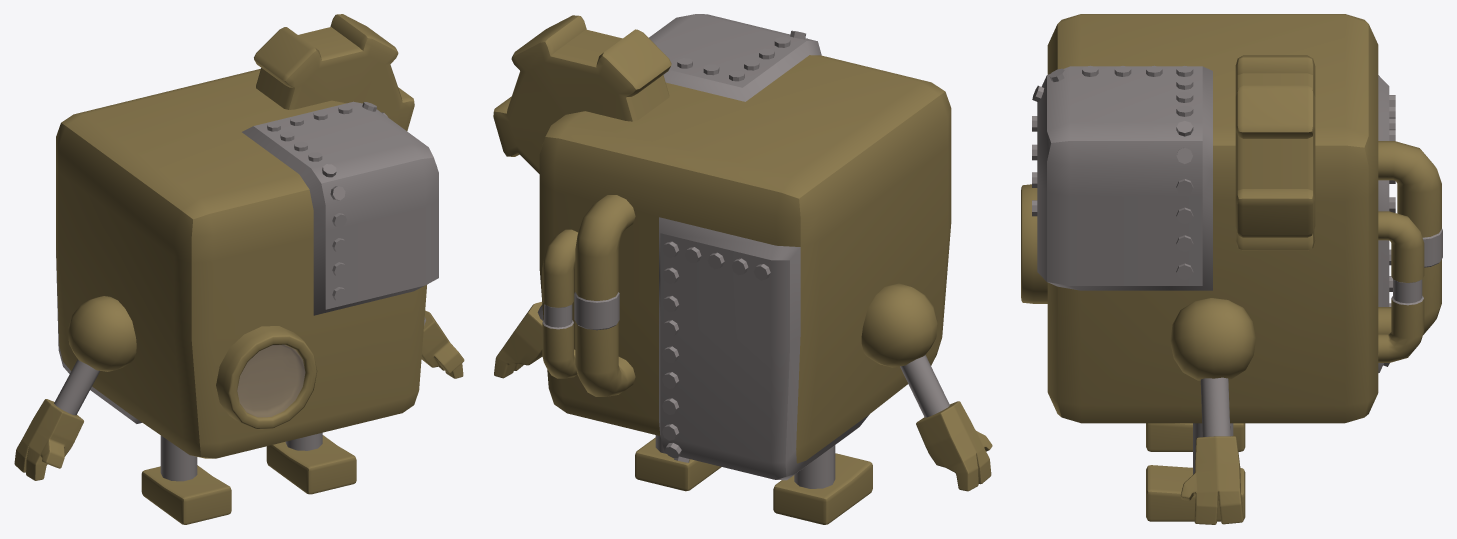
The model's file is GJ_RobotBoi.fbx.
3 views of the same model, side by side, from view 1: azimuth 30°, elevation 25°; view 2: azimuth 150°, elevation 25°; view 3: azimuth 270°, elevation 25° (orthographic). The views are drawn at different scales.
Visible parts, largest first — view 1: body, cog, eye, right_shoulder, glass, right_foot, left_foot, right_hand, left_hand, right_forearm, right_leg; view 2: body, cog, pipe, right_shoulder, pipe2, right_hand, right_foot, left_foot, left_hand, right_forearm, right_leg; view 3: body, cog, pipe, left_shoulder, pipe2, left_hand, left_foot, eye, left_forearm, right_foot.
Part boxes in pixels (<box>): body: <box>56,68,438,458</box>; cog: <box>254,14,414,130</box>; eye: <box>216,326,317,429</box>; right_shoulder: <box>68,296,136,371</box>; glass: <box>237,344,305,417</box>; right_foot: <box>141,465,231,524</box>; left_foot: <box>266,435,356,494</box>; right_hand: <box>14,399,83,480</box>; left_hand: <box>421,310,464,378</box>; right_forearm: <box>54,359,99,415</box>; right_leg: <box>160,435,197,481</box>; body: <box>539,14,951,480</box>; cog: <box>493,15,671,173</box>; pipe: <box>574,195,635,396</box>; right_shoulder: <box>861,283,937,367</box>; pipe2: <box>542,229,577,378</box>; right_hand: <box>916,401,992,491</box>; right_foot: <box>773,453,872,524</box>; left_foot: <box>635,437,721,491</box>; left_hand: <box>494,302,542,378</box>; right_forearm: <box>900,355,949,417</box>; right_leg: <box>794,445,835,488</box>; body: <box>1037,14,1389,423</box>; cog: <box>1235,55,1315,250</box>; pipe: <box>1378,141,1442,334</box>; left_shoulder: <box>1170,298,1255,380</box>; pipe2: <box>1378,211,1424,362</box>; left_hand: <box>1180,436,1243,524</box>; left_foot: <box>1146,465,1245,521</box>; eye: <box>1021,184,1047,303</box>; left_forearm: <box>1200,377,1230,436</box>; right_foot: <box>1146,423,1245,451</box>.
Size of the model in its own units: 0.0172 by 0.0155 by 0.0128.
